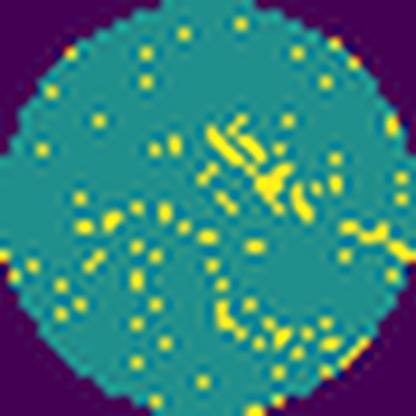Loc: (206, 121, 292, 216)
